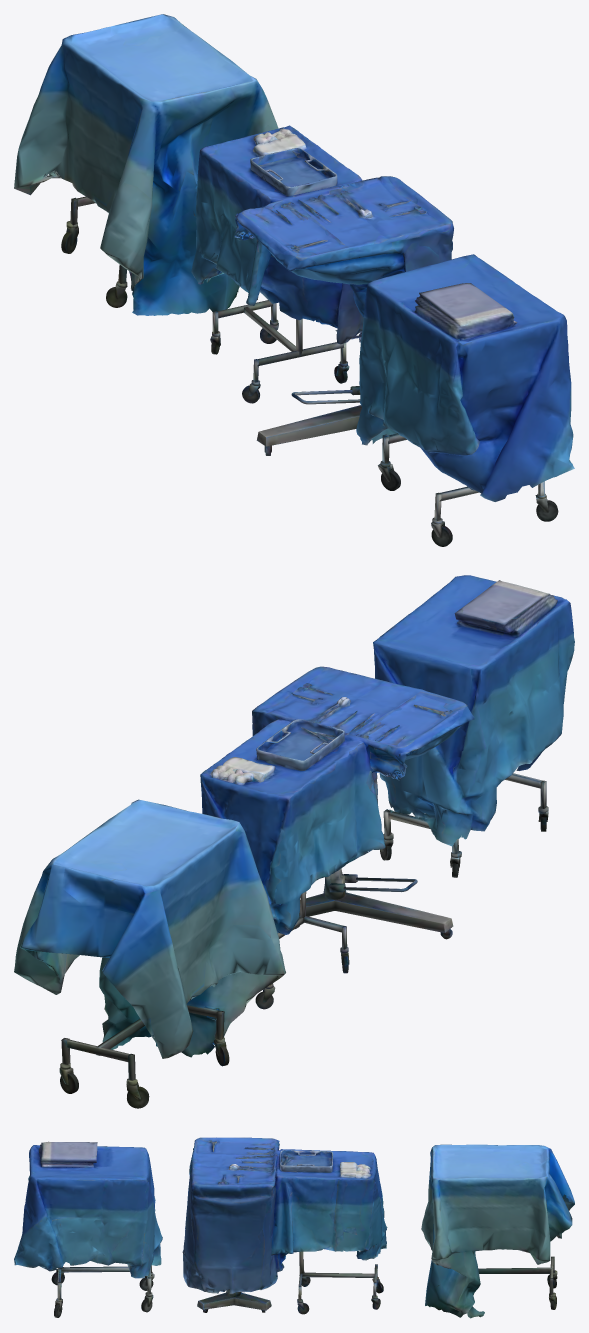
File: surgical.glb
3 renders of one model, top to bottom at view 1: azimuth 30°, elevation 25°; view 2: azimuth 150°, elevation 25°; view 3: azimuth 270°, elevation 25°, orthographic. The views are drawn at different scales.
Parts seen in each view (by area): view 1: Object_2, Object_3, Object_4; view 2: Object_2, Object_4, Object_3; view 3: Object_4, Object_2, Object_3.
Part boxes in pixels (x1=…): Object_2: x1=14, y1=14, x2=278, y2=315; Object_3: x1=356, y1=254, x2=574, y2=546; Object_4: x1=191, y1=125, x2=453, y2=455; Object_2: x1=14, y1=799, x2=285, y2=1108; Object_4: x1=200, y1=666, x2=474, y2=1009; Object_3: x1=373, y1=575, x2=574, y2=877; Object_4: x1=182, y1=1137, x2=387, y2=1314; Object_2: x1=421, y1=1144, x2=574, y2=1318; Object_3: x1=14, y1=1141, x2=162, y2=1317.
Size of the model in its own units: 1.08 by 1.23 by 4.29.
3 materials, 3 textured.
